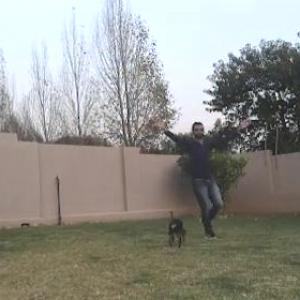takeoff: (152, 118, 247, 236)
